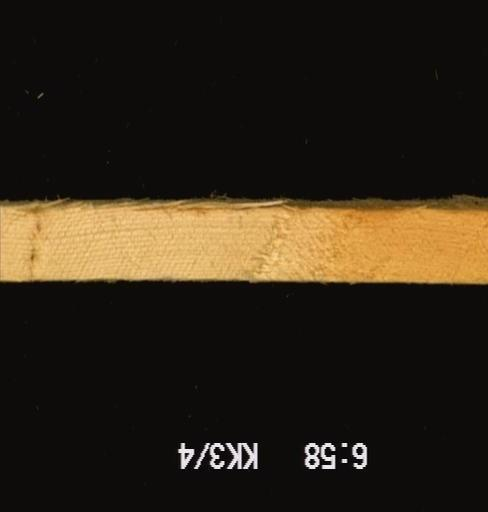small_knot: (1, 208, 60, 276)
